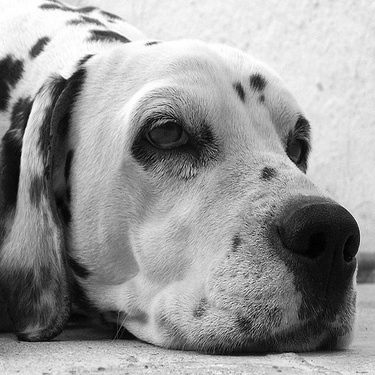dog: (1, 3, 362, 361)
